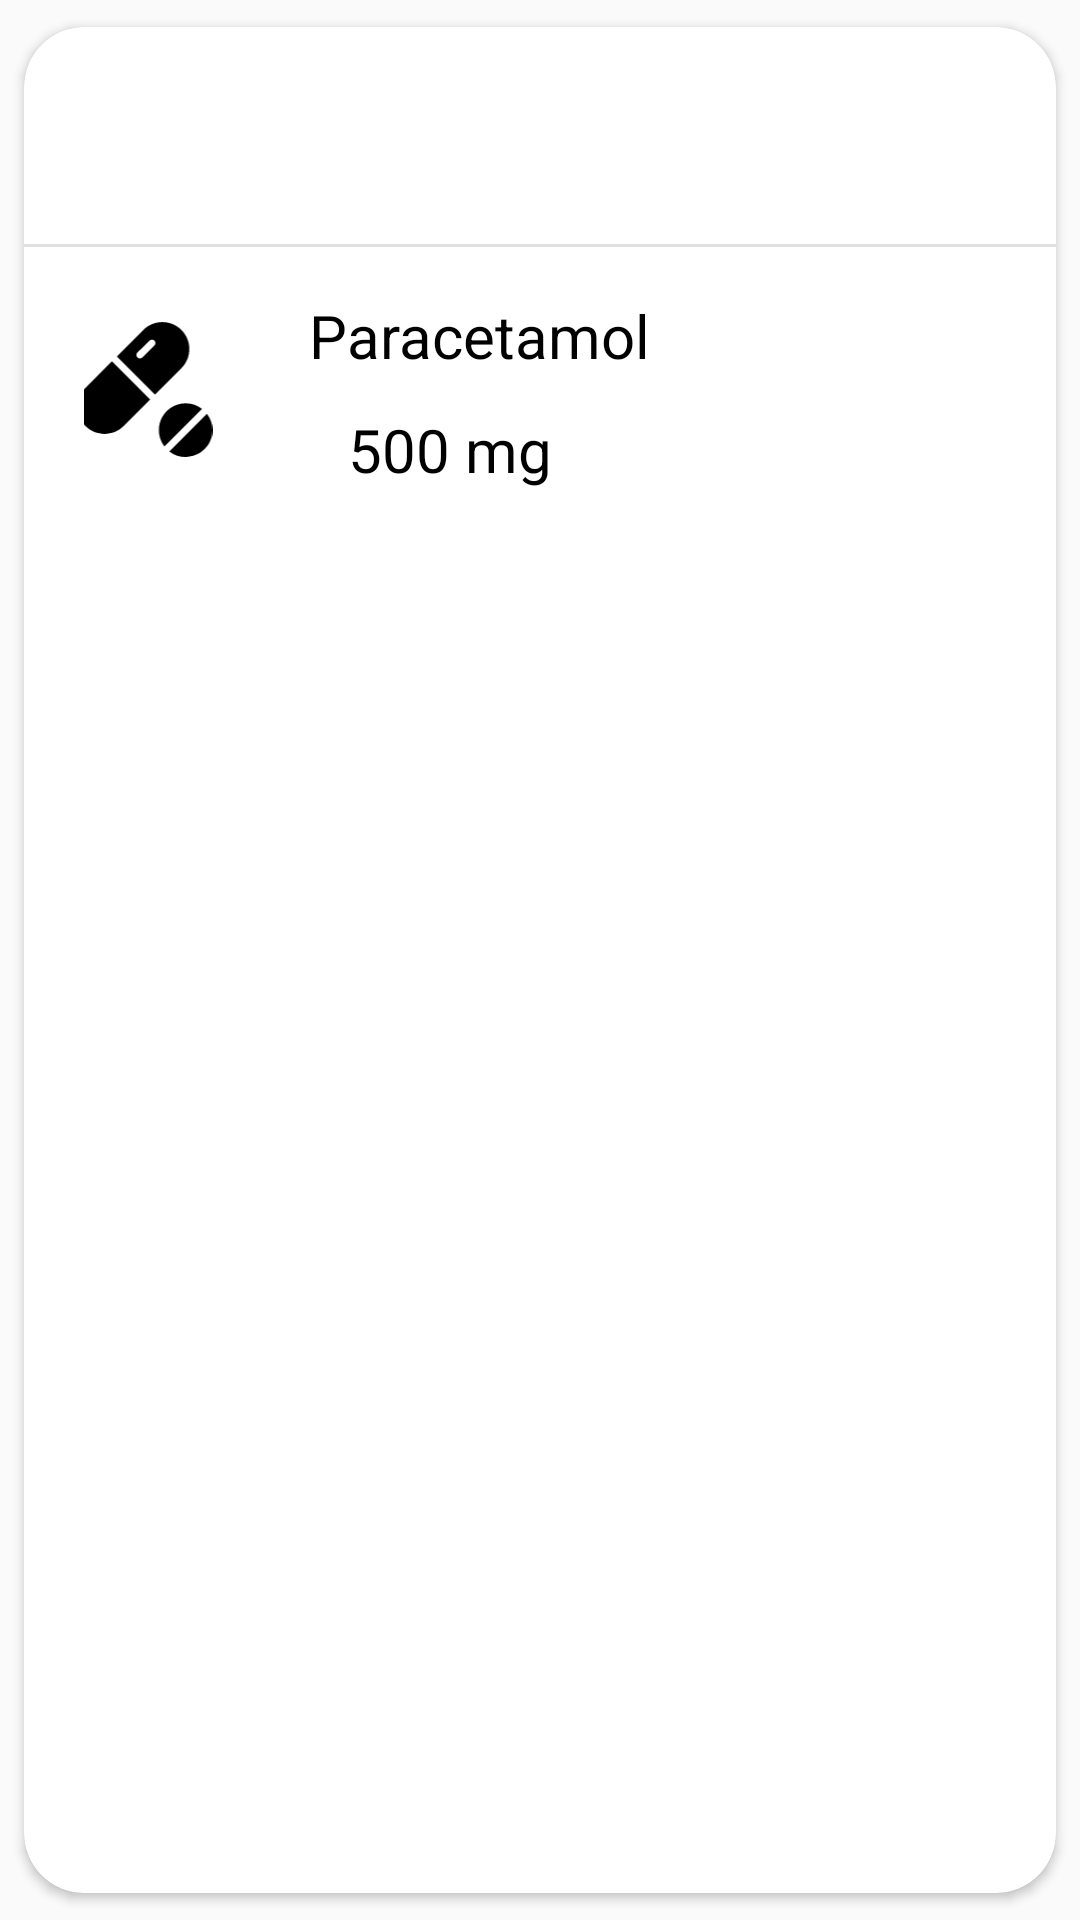

Icon click points for this 1080px x 1920px phone screenshot, format point (x, y):
pill: point (148, 389)
